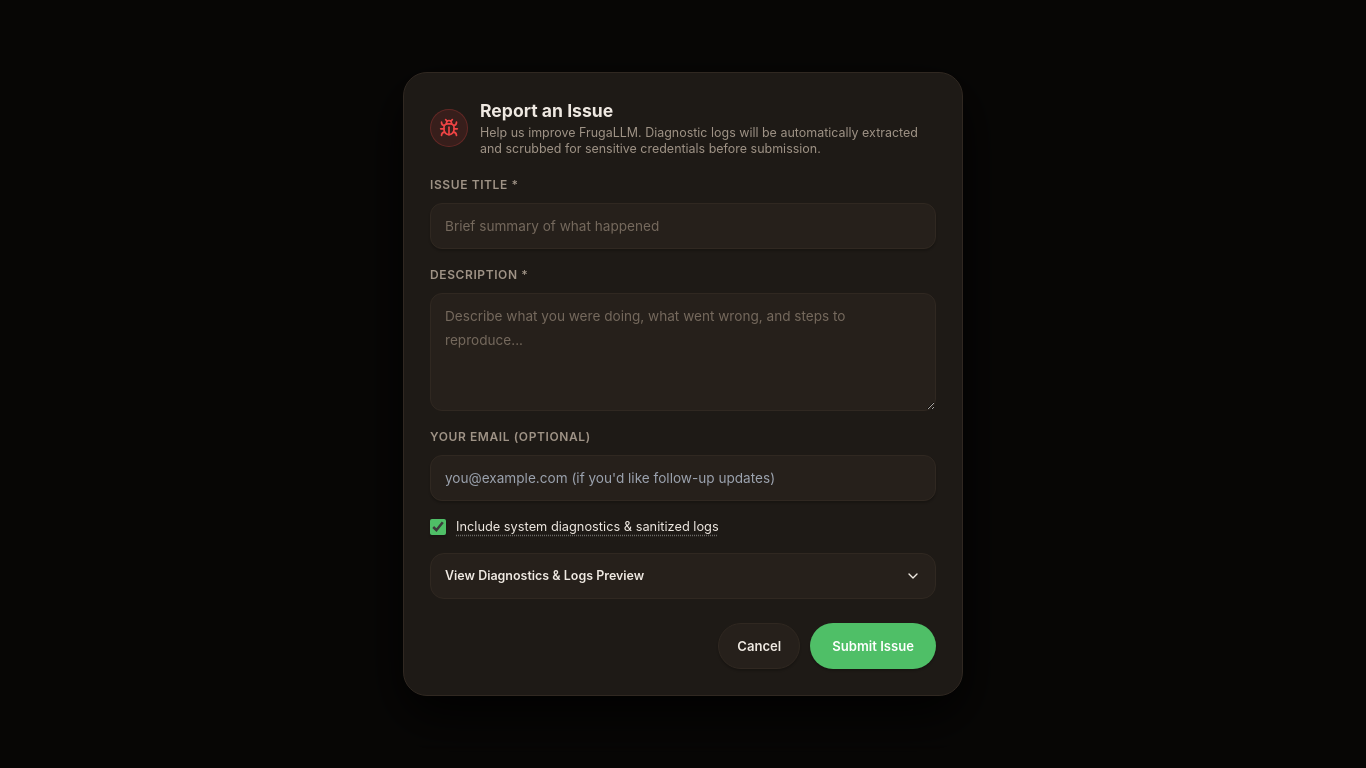
IssueReporterModal Component › allows expanding diagnostics preview and displays sanitized logs
Click the button with test id "toggle-diagnostics-preview" at (545, 576), box [431,554,935,598]
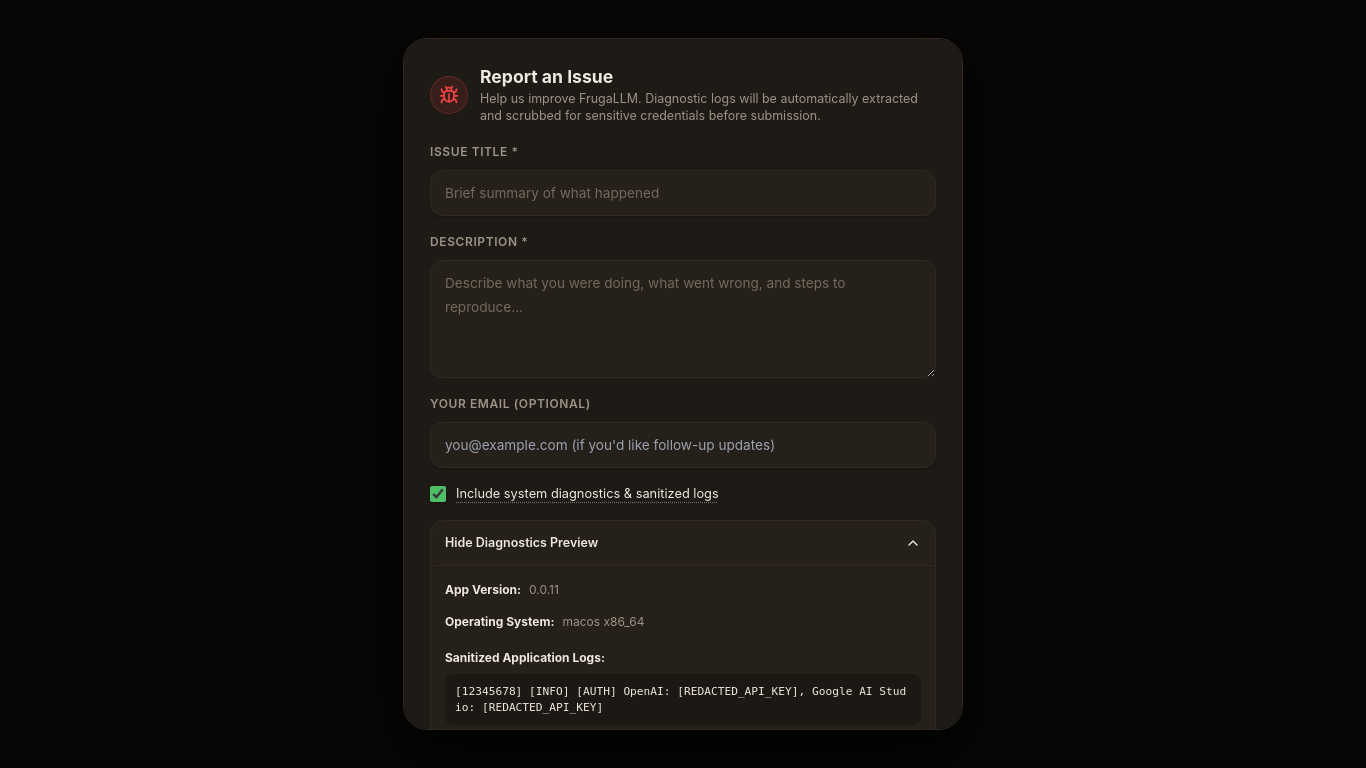
Expected: the text "OpenAI: [REDACTED_API_KEY], Google AI Studio: [REDACTED_API_KEY]" is shown, [455,685,906,714]
Expected: the text "0.0.11" is shown, [529,578,559,602]
Expected: the text "macos x86_64" is shown, [562,610,644,634]
